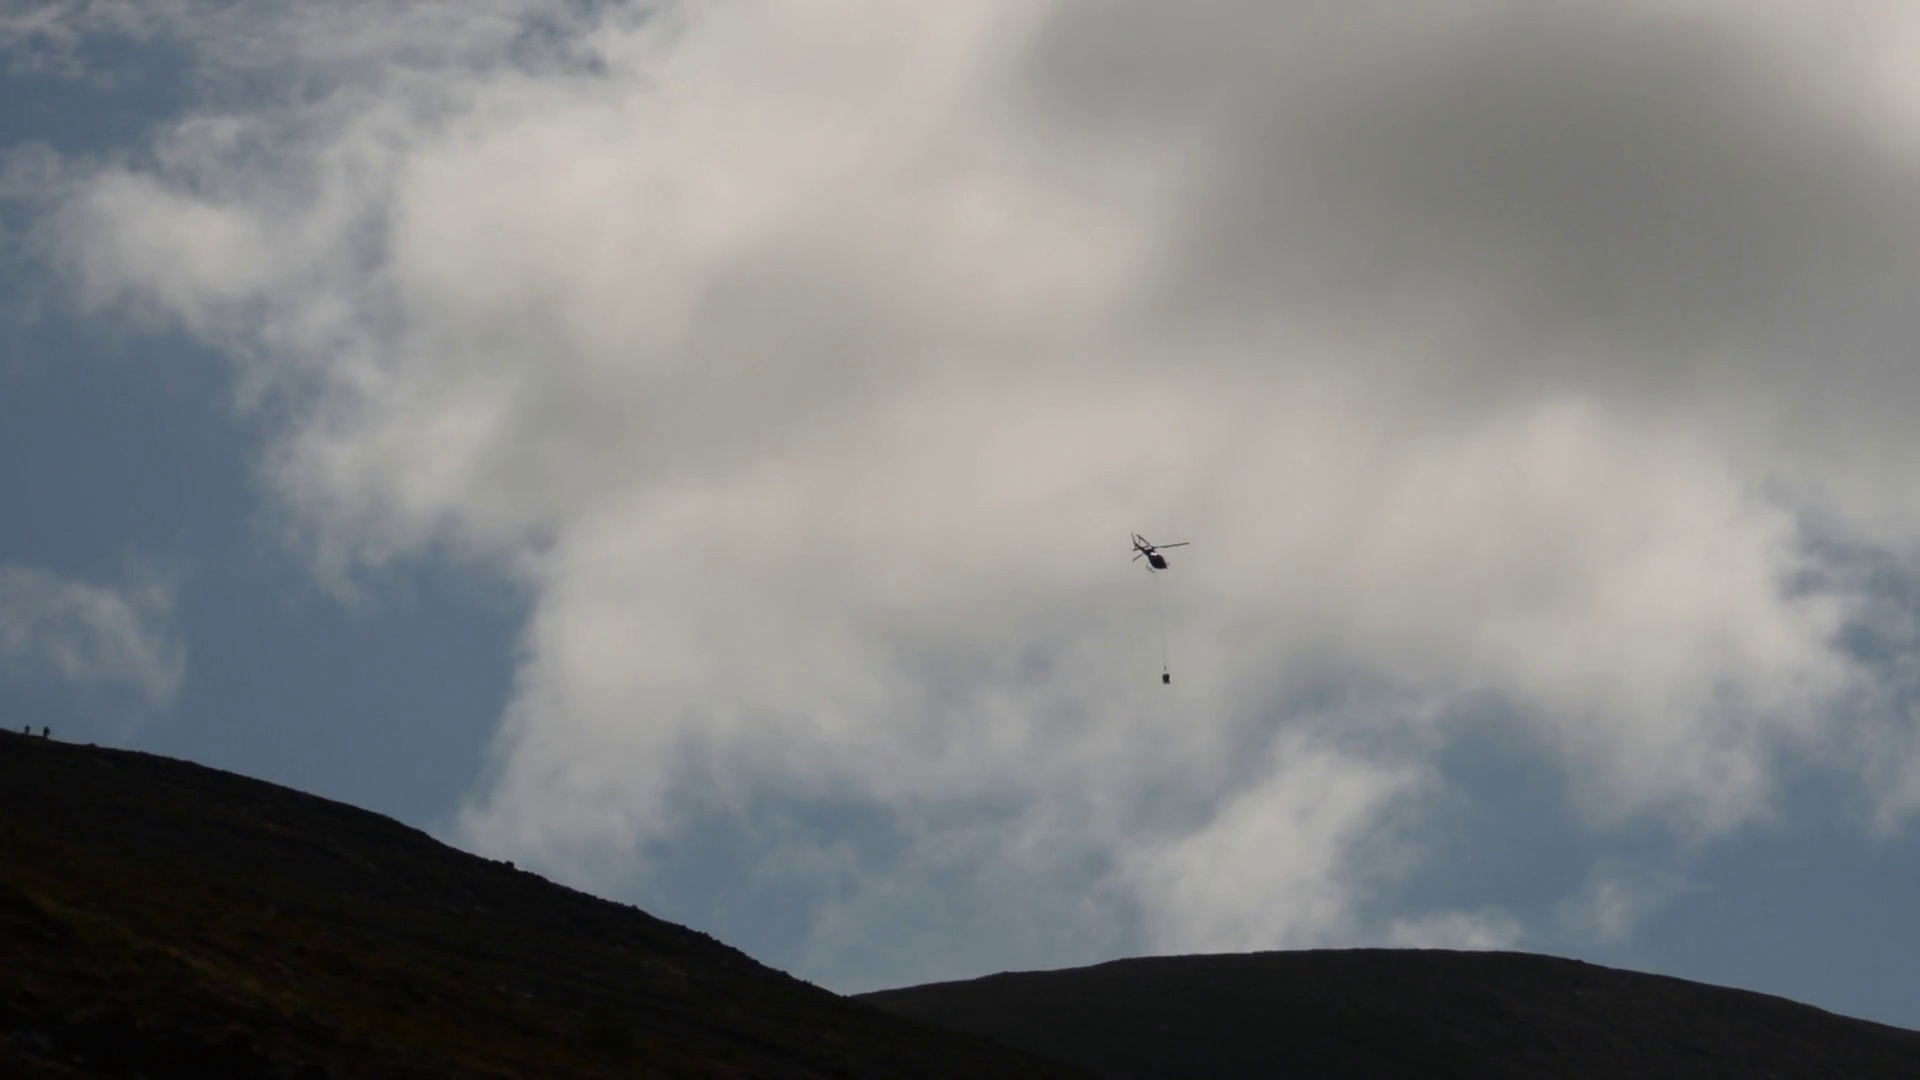heli: (1124, 527, 1192, 572)
